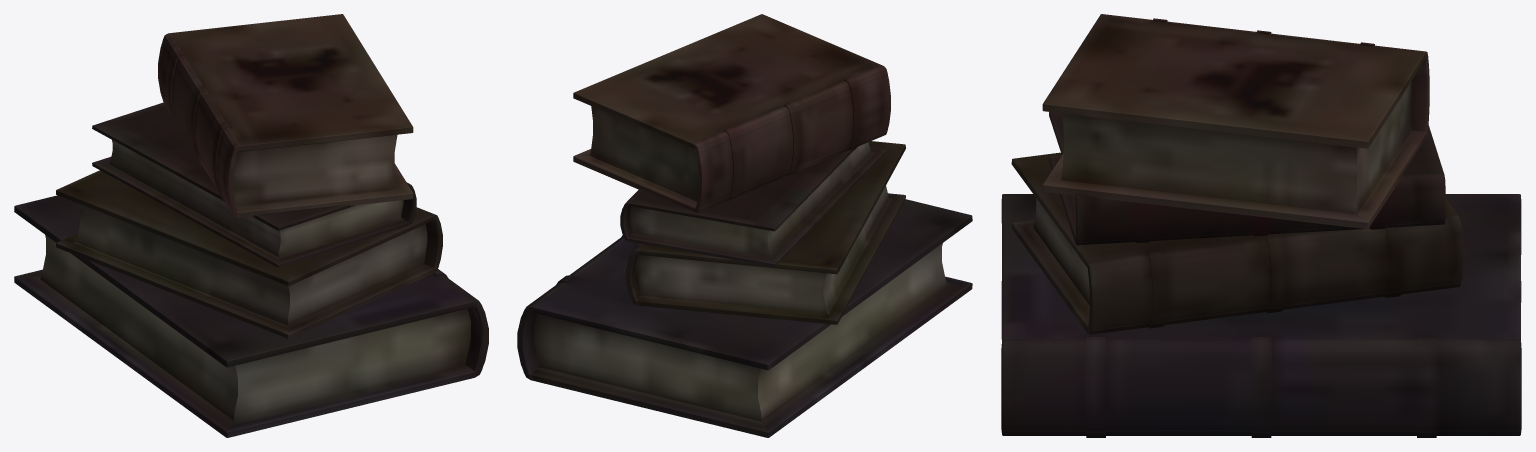
Rendered from books1.glb.
3 views of the same model, side by side, from view 1: azimuth 30°, elevation 25°; view 2: azimuth 150°, elevation 25°; view 3: azimuth 270°, elevation 25° (orthographic). The views are drawn at different scales.
Visible parts, largest first — view 1: book1_low1_books_0; view 2: book1_low1_books_0; view 3: book1_low1_books_0.
Boxes of the visible parts, x1,y1,x2,y2 form: book1_low1_books_0: (14, 14, 488, 437); book1_low1_books_0: (517, 14, 972, 437); book1_low1_books_0: (1001, 14, 1521, 437).
Bounding box in the file's own units: 31.39 × 26.96 × 41.25.
Materials: 1 (1 with a texture image).
